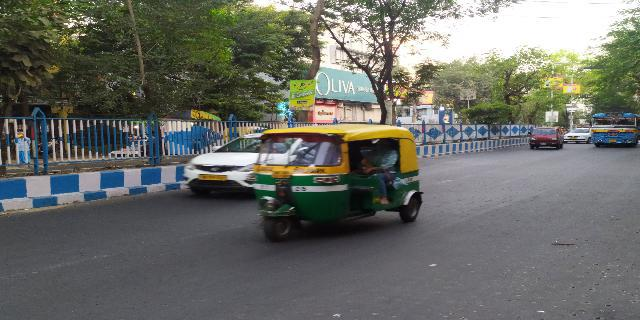Autorickshaw: (251, 131, 428, 235)
Car: (179, 131, 259, 195)
